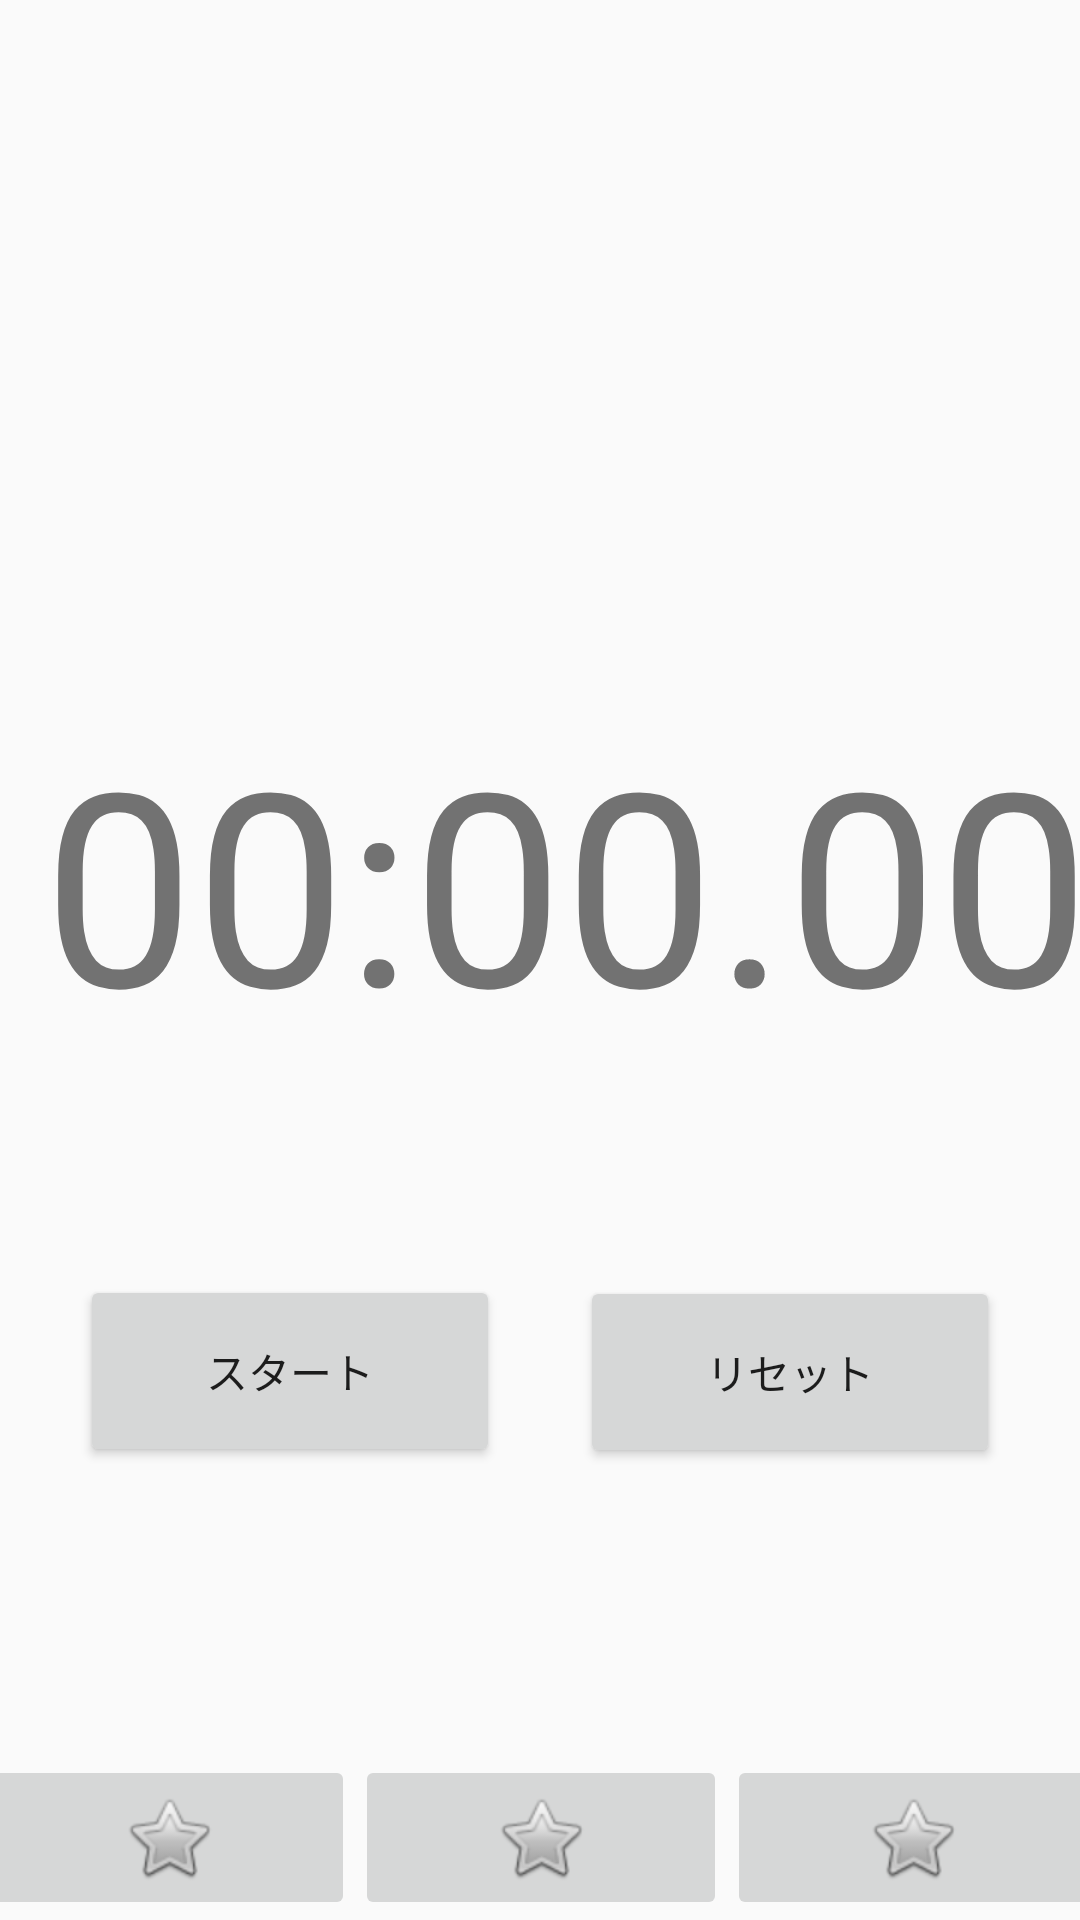

Screen size 1080x1920. Icon name, then its box in pixels as Rect(x1, y1, x2, y2):
star: Rect(0, 1773, 343, 1902), Rect(367, 1773, 715, 1902), Rect(739, 1773, 1080, 1902)
